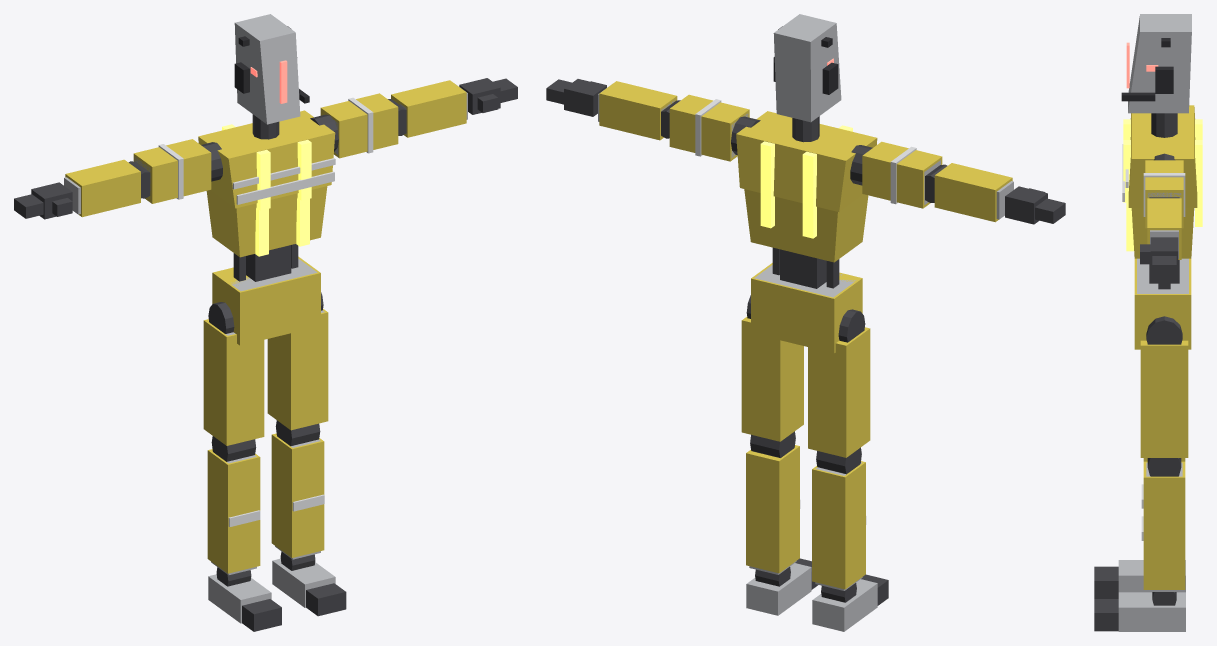
Rendered from char_F2_cargo_handler.glb.
3 renders of one model, left to right at view 1: azimuth 30°, elevation 25°; view 2: azimuth 150°, elevation 25°; view 3: azimuth 270°, elevation 25°, orthographic. The views are drawn at different scales.
Visible parts, largest first — view 1: UpperChest_mesh, RightUpperLeg_mesh, RightLowerLeg_mesh, LeftLowerLeg_mesh, Hips_mesh, Head_mesh, LeftUpperLeg_mesh, Chest_mesh, RightLowerArm_mesh, RightUpperArm_mesh, LeftUpperArm_mesh, LeftLowerArm_mesh (+7 smaller); view 2: UpperChest_mesh, RightUpperLeg_mesh, LeftLowerLeg_mesh, RightLowerLeg_mesh, Hips_mesh, LeftUpperLeg_mesh, Head_mesh, Chest_mesh, RightLowerArm_mesh, RightUpperArm_mesh, LeftUpperArm_mesh, LeftLowerArm_mesh (+5 smaller); view 3: LeftUpperLeg_mesh, Head_mesh, LeftLowerLeg_mesh, UpperChest_mesh, Hips_mesh, LeftFoot_mesh, LeftUpperArm_mesh, LeftLowerArm_mesh, Chest_mesh, LeftHand_mesh, RightFoot_mesh, LeftToes_mesh (+3 smaller).
Boxes of the visible parts, x1,y1,x2,y2 form: UpperChest_mesh: [198, 110, 335, 210]; RightUpperLeg_mesh: [203, 302, 264, 445]; RightLowerLeg_mesh: [207, 436, 260, 575]; LeftLowerLeg_mesh: [271, 420, 324, 559]; Hips_mesh: [212, 256, 320, 345]; Head_mesh: [234, 14, 309, 124]; LeftUpperLeg_mesh: [267, 292, 328, 430]; Chest_mesh: [206, 186, 327, 257]; RightLowerArm_mesh: [64, 159, 150, 217]; RightUpperArm_mesh: [133, 139, 211, 203]; LeftUpperArm_mesh: [320, 93, 398, 158]; LeftLowerArm_mesh: [388, 80, 467, 137]; UpperChest_mesh: [736, 111, 877, 238]; RightUpperLeg_mesh: [808, 309, 870, 457]; LeftLowerLeg_mesh: [746, 431, 800, 574]; RightLowerLeg_mesh: [812, 447, 866, 590]; Hips_mesh: [751, 263, 862, 353]; LeftUpperLeg_mesh: [741, 295, 803, 441]; Head_mesh: [773, 14, 841, 122]; Chest_mesh: [744, 189, 868, 262]; RightLowerArm_mesh: [925, 163, 1013, 222]; RightUpperArm_mesh: [862, 141, 942, 208]; LeftUpperArm_mesh: [669, 94, 749, 161]; LeftLowerArm_mesh: [598, 81, 680, 140]; LeftUpperLeg_mesh: [1140, 316, 1188, 457]; Head_mesh: [1121, 14, 1191, 113]; LeftLowerLeg_mesh: [1141, 458, 1185, 591]; UpperChest_mesh: [1122, 105, 1202, 226]; Hips_mesh: [1134, 258, 1191, 349]; LeftFoot_mesh: [1118, 592, 1185, 631]; LeftUpperArm_mesh: [1143, 160, 1185, 228]; LeftLowerArm_mesh: [1147, 197, 1181, 259]; Chest_mesh: [1126, 202, 1194, 258]; LeftHand_mesh: [1140, 237, 1178, 276]; RightFoot_mesh: [1118, 560, 1185, 592]; LeftToes_mesh: [1094, 599, 1118, 631].
Bounding box in the file's own units: 1.69 × 1.86 × 0.3124.
